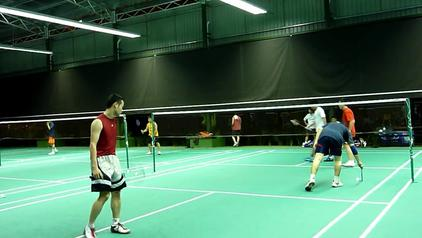crouch: (89, 93, 125, 218), (336, 107, 360, 148)
stay: (89, 93, 125, 218), (305, 103, 324, 154), (138, 119, 164, 153)
walk: (138, 119, 164, 153)
